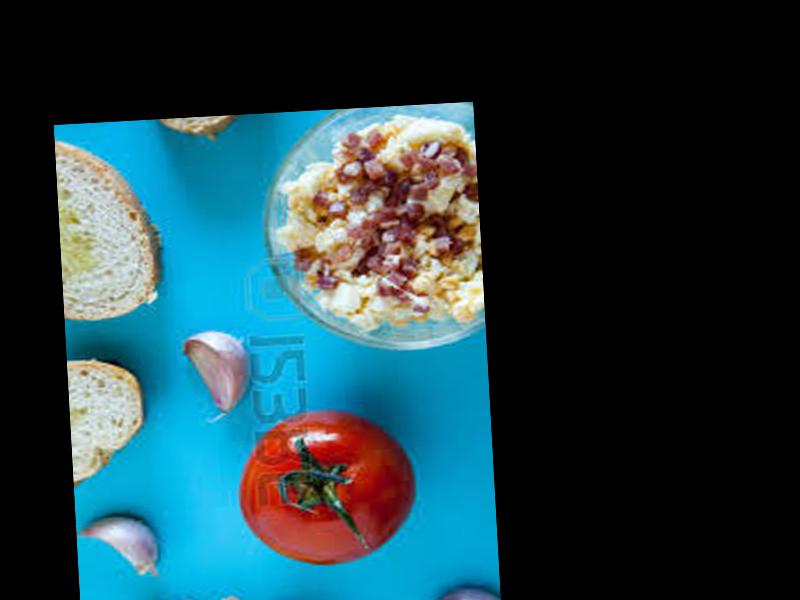Tomato: (233, 411, 418, 569)
